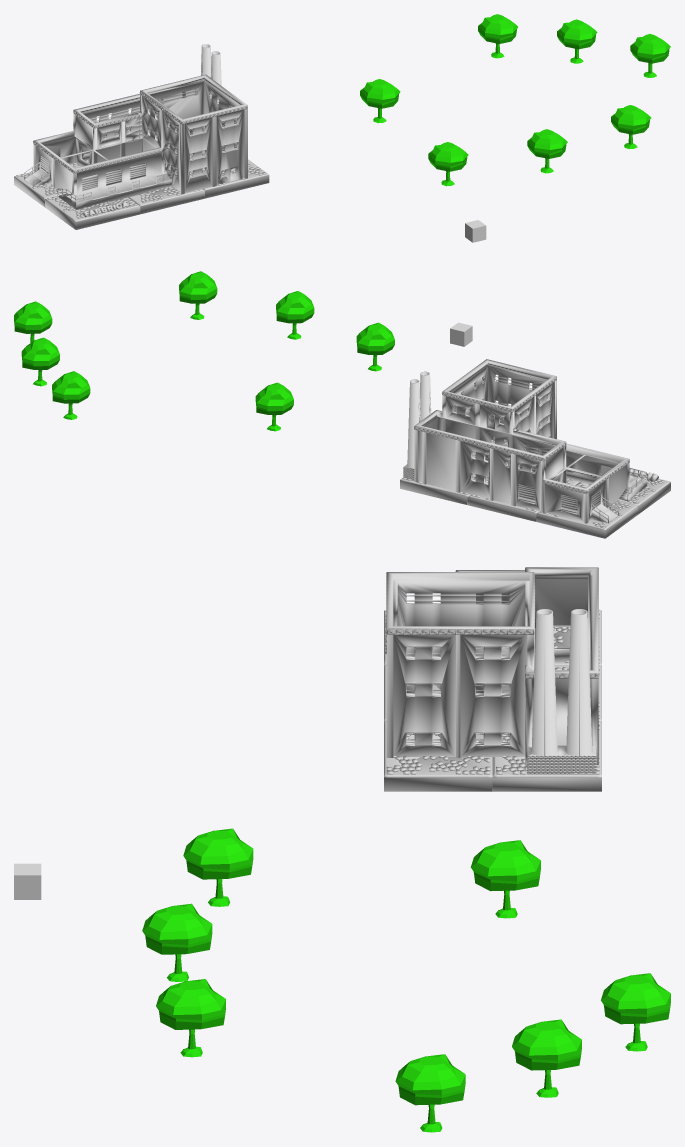
Rendered from Augmentierung.fbx.
3 renders of one model, top to bottom at view 1: azimuth 30°, elevation 25°; view 2: azimuth 150°, elevation 25°; view 3: azimuth 270°, elevation 25°, orthographic. The views are drawn at different scales.
Parts seen in each view (by area): view 1: Fabrik, Baum.005, Baum.009, Baum.003, Baum.008, Baum.007, Baum.002, Baum.006, Würfel; view 2: Fabrik, Baum.005, Baum.007, Baum.003, Baum.008, Baum.006, Baum.002, Baum.009, Würfel; view 3: Fabrik, Baum.002, Baum.009, Baum.008, Baum.005, Baum.003, Baum.006, Baum.007, Würfel.
Boxes of the visible parts, bbox=[...] form: Fabrik: bbox=[14, 44, 269, 229]; Baum.005: bbox=[527, 129, 567, 173]; Baum.009: bbox=[630, 34, 670, 77]; Baum.003: bbox=[611, 105, 651, 149]; Baum.008: bbox=[557, 19, 597, 63]; Baum.007: bbox=[478, 14, 517, 58]; Baum.002: bbox=[428, 142, 468, 186]; Baum.006: bbox=[360, 79, 400, 123]; Würfel: bbox=[465, 220, 486, 242]; Fabrik: bbox=[400, 359, 670, 538]; Baum.005: bbox=[276, 291, 314, 339]; Baum.007: bbox=[52, 371, 90, 419]; Baum.003: bbox=[179, 271, 217, 319]; Baum.008: bbox=[21, 337, 59, 386]; Baum.006: bbox=[255, 382, 293, 431]; Baum.002: bbox=[356, 322, 394, 371]; Baum.009: bbox=[14, 301, 52, 346]; Würfel: bbox=[450, 322, 472, 346]; Fabrik: bbox=[384, 567, 601, 791]; Baum.002: bbox=[183, 828, 253, 906]; Baum.009: bbox=[395, 1054, 465, 1132]; Baum.008: bbox=[512, 1019, 581, 1097]; Baum.005: bbox=[142, 903, 212, 981]; Baum.003: bbox=[156, 979, 225, 1057]; Baum.006: bbox=[470, 840, 540, 918]; Baum.007: bbox=[601, 973, 670, 1051]; Würfel: bbox=[14, 863, 41, 899].
Bounding box in the file's own units: 89.64 × 14.94 × 48.
